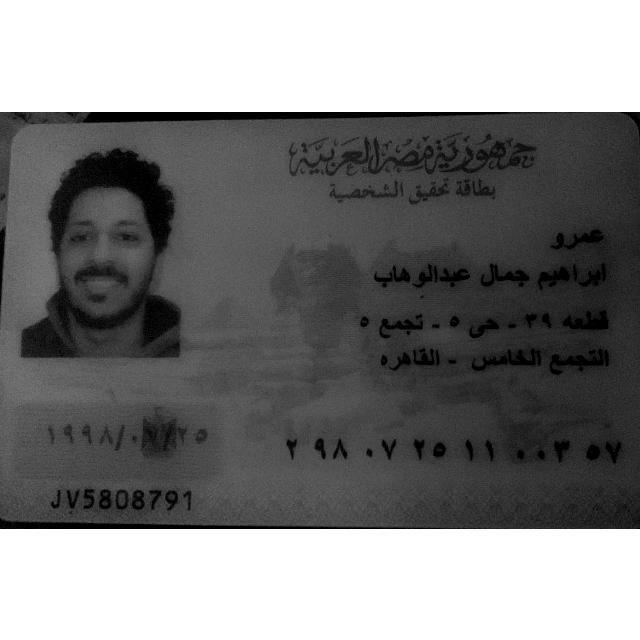front: (0, 111, 639, 526)
